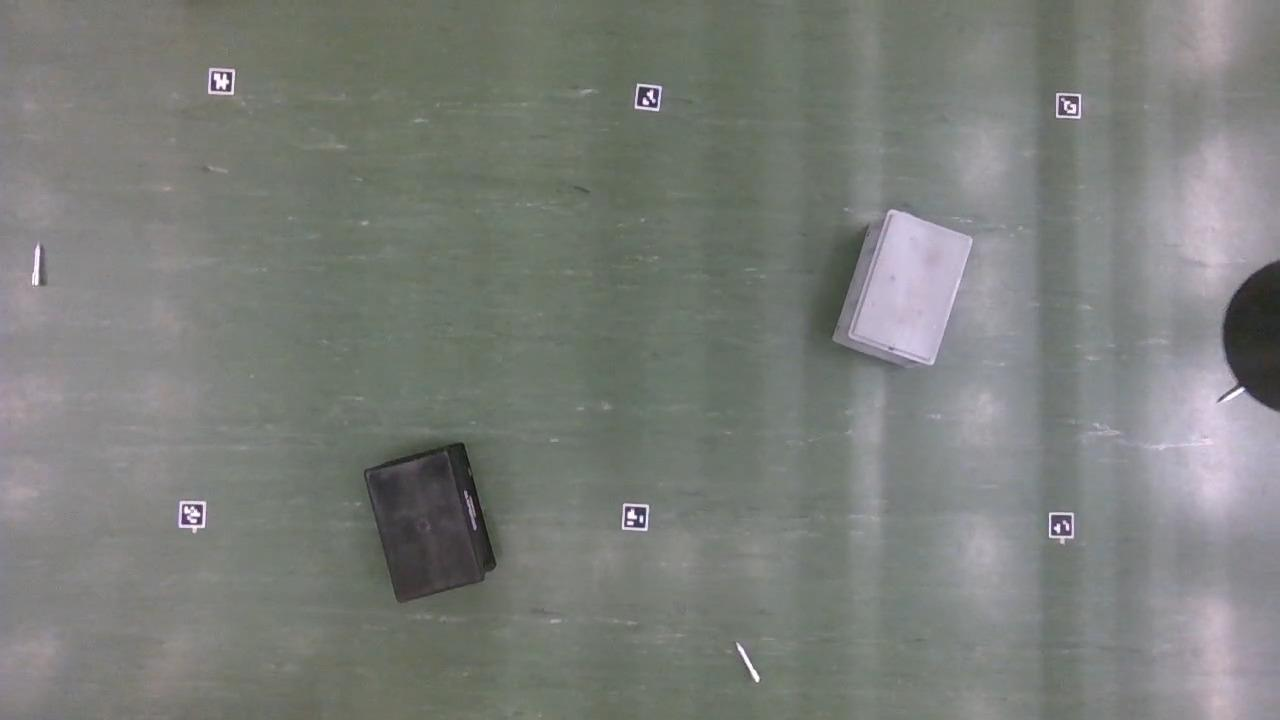probes: (736, 643, 759, 683), (32, 245, 43, 287), (1220, 386, 1244, 404)
rako: (831, 211, 974, 372), (364, 446, 496, 606)
